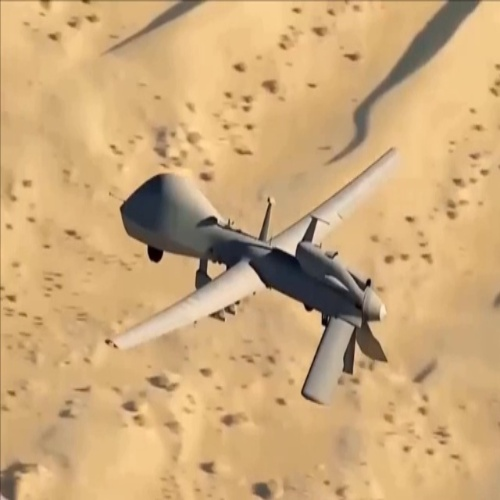uav: (101, 145, 404, 413)
